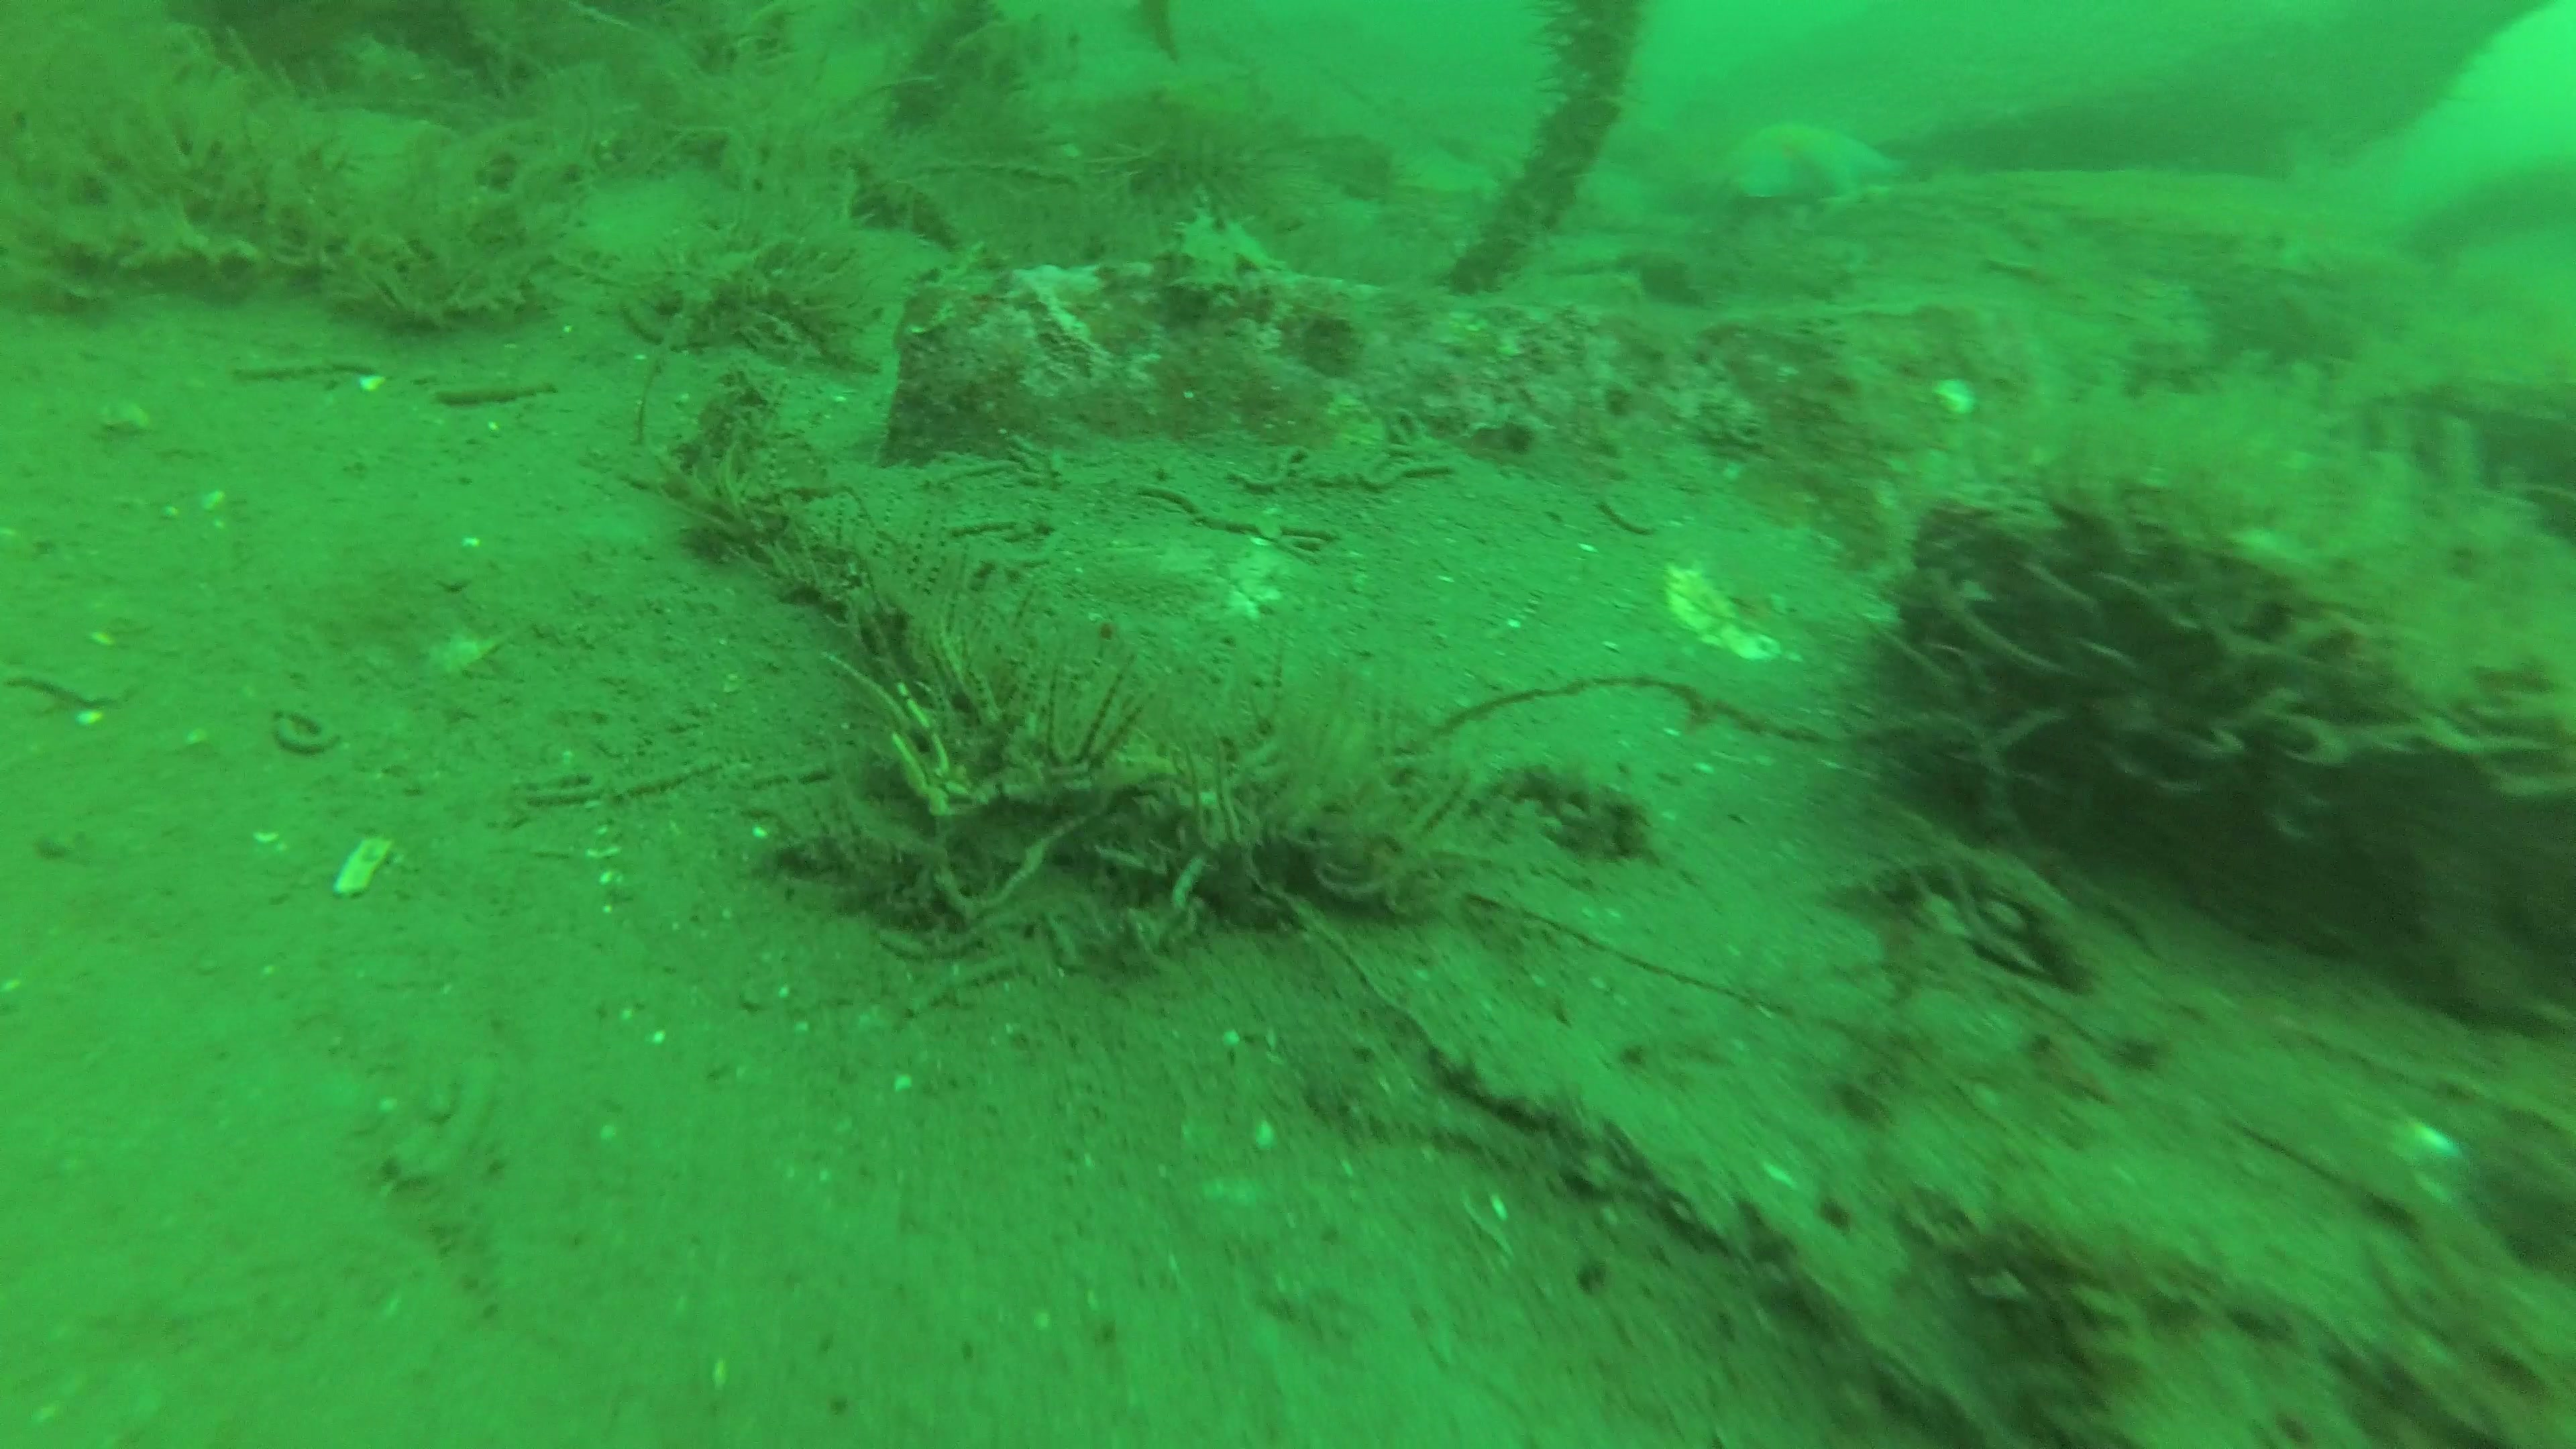holothurian: (1150, 182, 1295, 315)
starfish: (1723, 117, 1932, 203)
